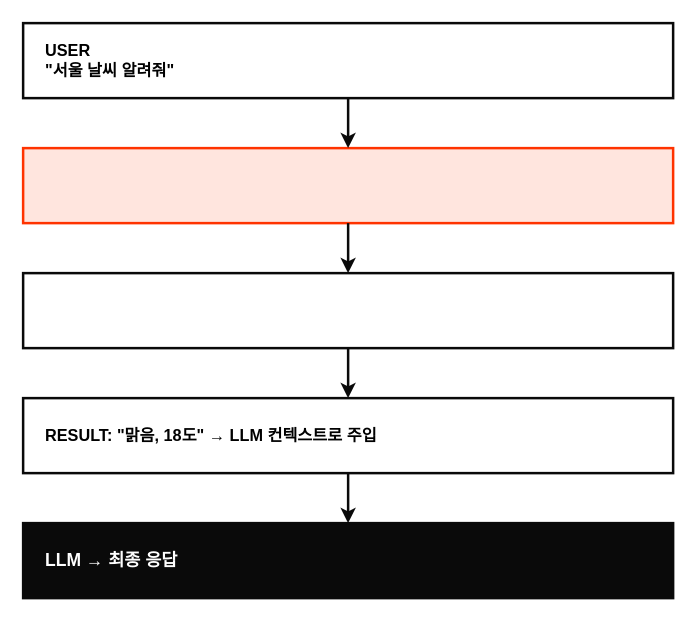
This 695x620 diagram has some shape labels left out. Here are the shapes that lost their labels. From the top down, the centre of each, then its label:
point 347,185: LLM → {"name": "get_weather", "args": {"city": "Seoul"}}
point 347,310: RUNTIME: get_weather("Seoul") 실행
